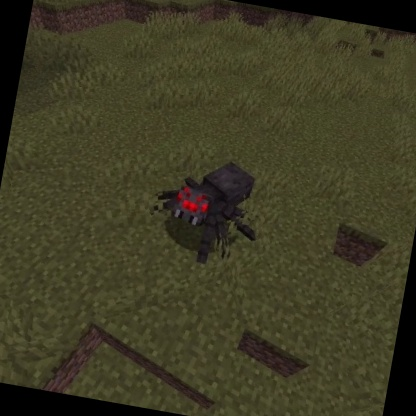spider: (138, 145, 272, 278)
